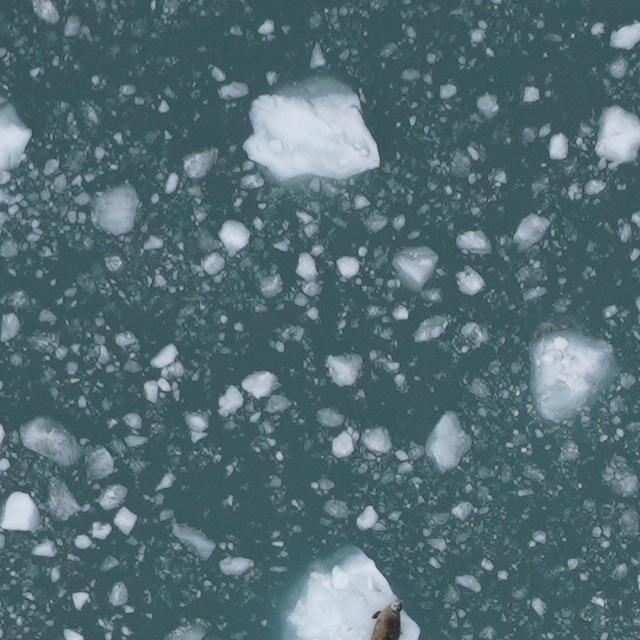seal: (366, 595, 410, 640)
